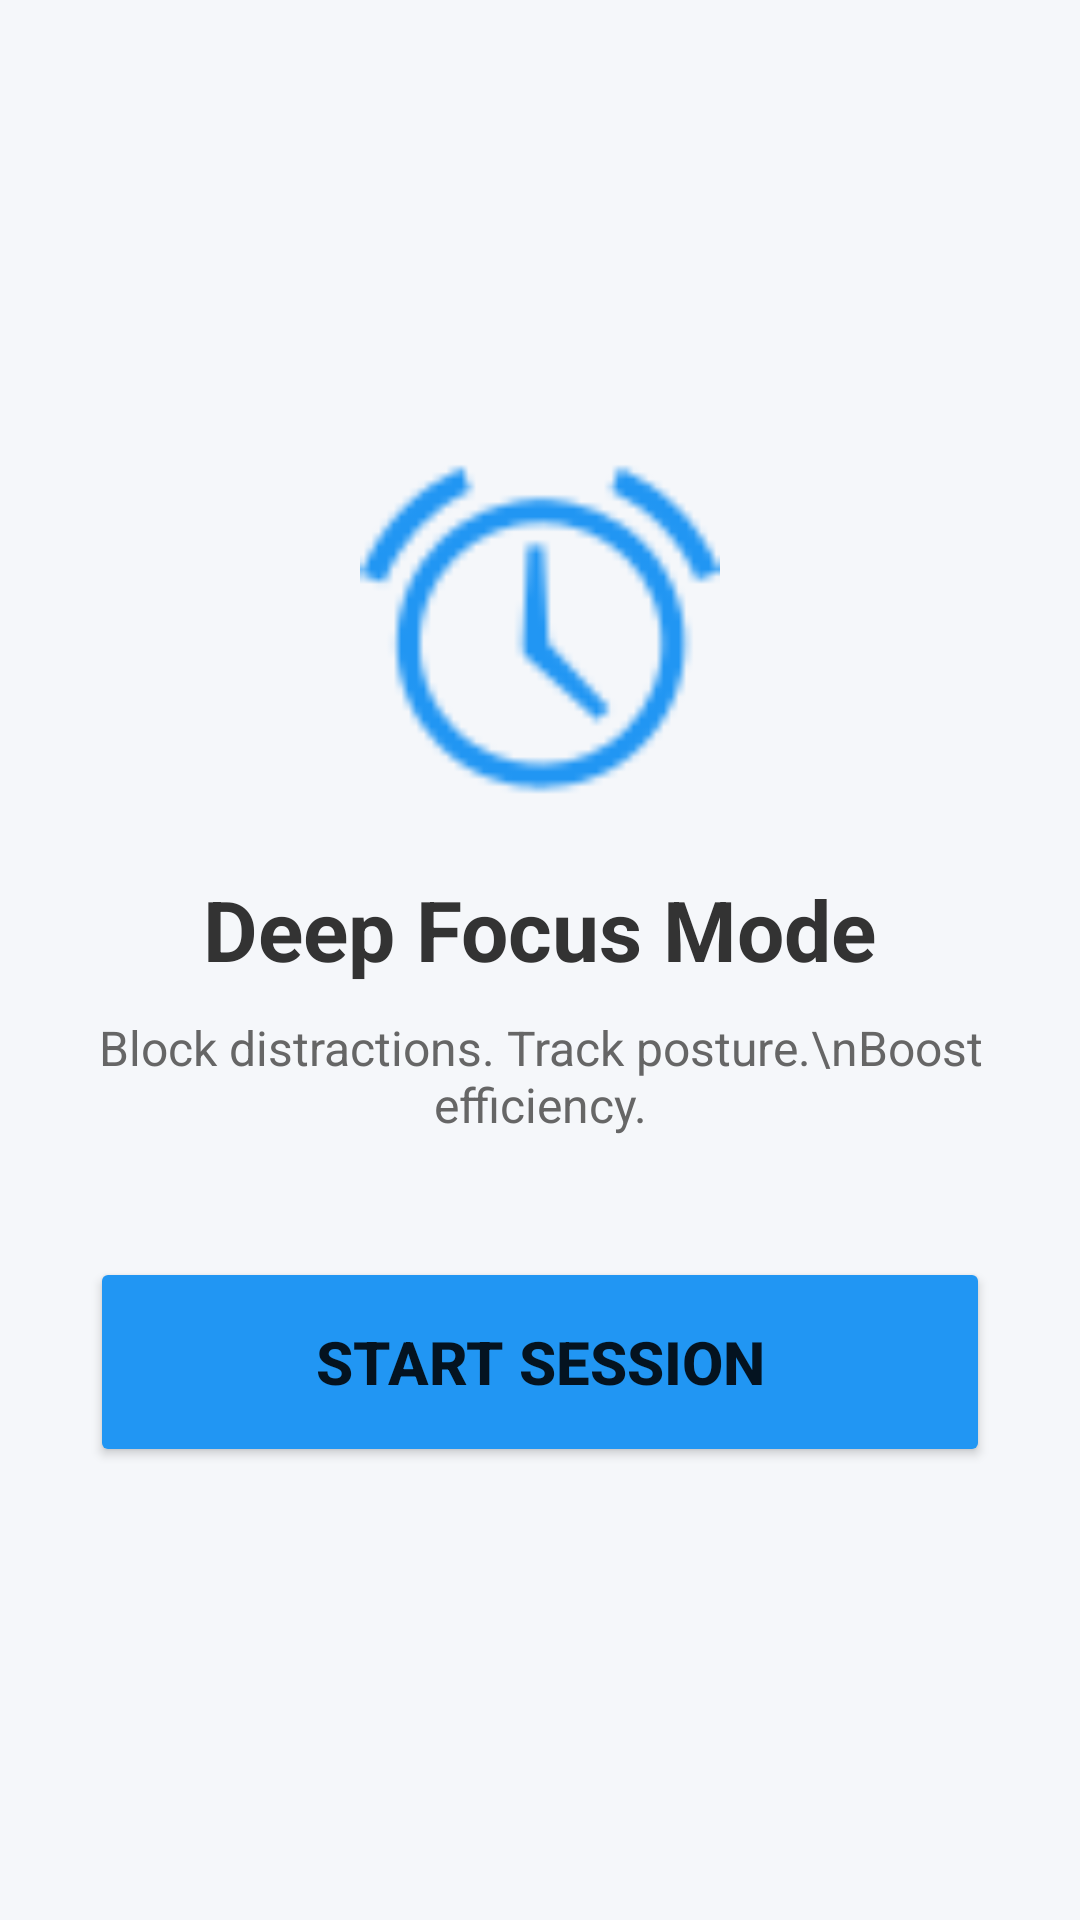

Screen size 1080w x 1920h. Icon name, then its box in pixels as box=[x1, y1, x2, y2]:
lock idle alarm: box=[360, 465, 720, 793]
